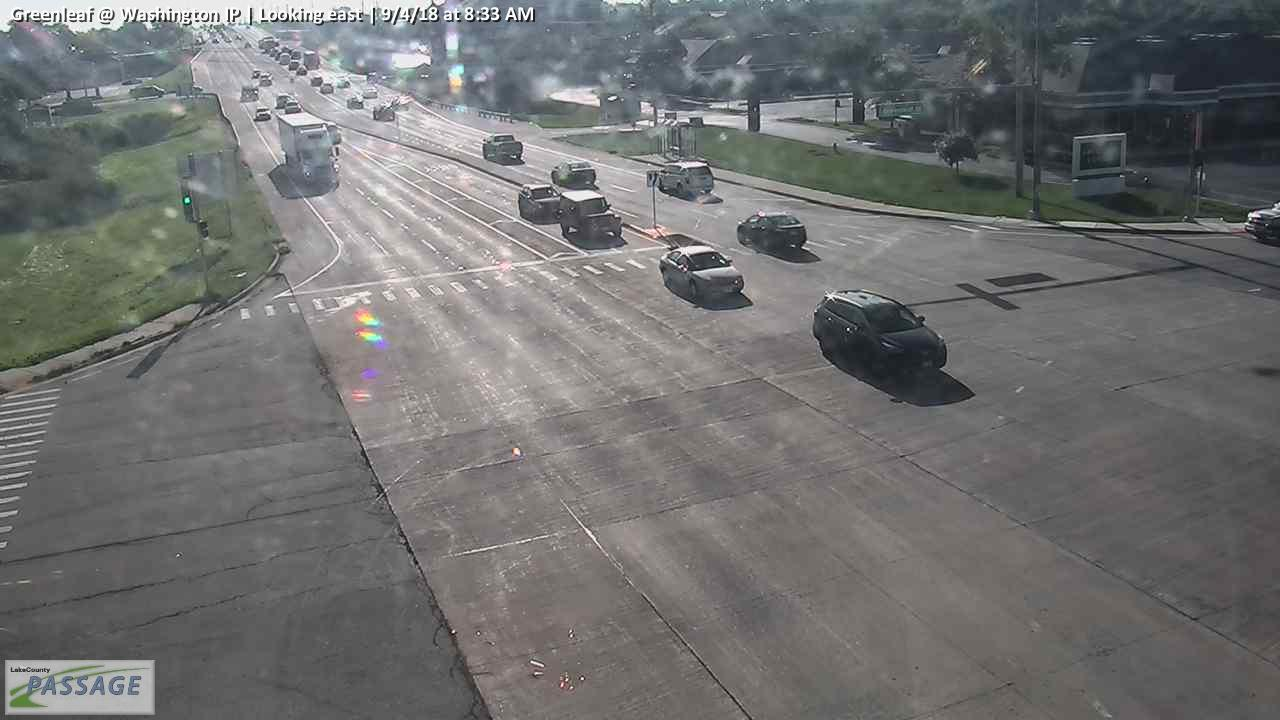SUV: (811, 287, 947, 382), (555, 189, 621, 241), (657, 159, 714, 193)
Sedan: (658, 244, 745, 301), (737, 211, 808, 250), (519, 183, 558, 221), (481, 134, 523, 162), (551, 161, 597, 186), (370, 104, 396, 121), (283, 100, 300, 112), (255, 106, 271, 118), (348, 96, 362, 108), (363, 87, 378, 98), (277, 93, 288, 106), (310, 74, 321, 85), (320, 83, 333, 92), (260, 72, 270, 83), (289, 60, 299, 69), (295, 68, 307, 75)
Truck: (275, 112, 343, 187), (303, 51, 320, 69)
